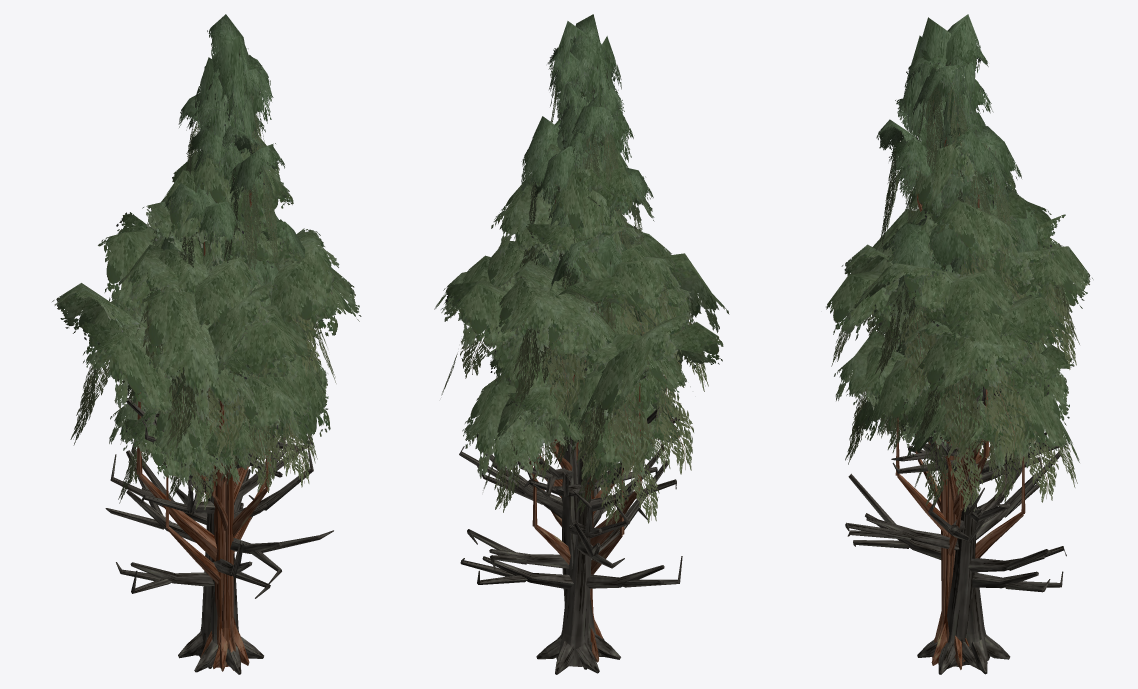
File: vado_arboles.glb
3 renders of one model, left to right at view 1: azimuth 30°, elevation 25°; view 2: azimuth 150°, elevation 25°; view 3: azimuth 270°, elevation 25°, orthographic.
Parts seen in each view (by area): view 1: roble_02__tree_detailed, pino_04__tree_pineTallD_detailed, roble_03__tree_oak_dark, roble_01__tree_oak, arbol_muerto_02__stump_old, arbol_muerto_01__stump_oldTall, pino_02__tree_pineTallB_detailed; view 2: roble_02__tree_detailed, pino_04__tree_pineTallD_detailed, roble_01__tree_oak, arbol_muerto_01__stump_oldTall, roble_03__tree_oak_dark, arbol_muerto_02__stump_old, pino_02__tree_pineTallB_detailed; view 3: roble_02__tree_detailed, pino_04__tree_pineTallD_detailed, roble_01__tree_oak, roble_03__tree_oak_dark, arbol_muerto_02__stump_old, arbol_muerto_01__stump_oldTall, pino_02__tree_pineTallB_detailed.
Part boxes in pixels (x1=…): roble_02__tree_detailed: x1=52, y1=131, x2=361, y2=671; pino_04__tree_pineTallD_detailed: x1=161, y1=14, x2=305, y2=668; roble_03__tree_oak_dark: x1=109, y1=352, x2=328, y2=670; roble_01__tree_oak: x1=120, y1=236, x2=330, y2=537; arbol_muerto_02__stump_old: x1=110, y1=413, x2=333, y2=674; arbol_muerto_01__stump_oldTall: x1=105, y1=398, x2=313, y2=668; pino_02__tree_pineTallB_detailed: x1=194, y1=119, x2=263, y2=283; roble_02__tree_detailed: x1=434, y1=138, x2=729, y2=662; pino_04__tree_pineTallD_detailed: x1=514, y1=14, x2=653, y2=365; roble_01__tree_oak: x1=462, y1=218, x2=666, y2=564; arbol_muerto_01__stump_oldTall: x1=460, y1=406, x2=679, y2=674; roble_03__tree_oak_dark: x1=486, y1=345, x2=685, y2=637; arbol_muerto_02__stump_old: x1=459, y1=350, x2=682, y2=669; pino_02__tree_pineTallB_detailed: x1=536, y1=82, x2=616, y2=316; roble_02__tree_detailed: x1=826, y1=142, x2=1093, y2=669; pino_04__tree_pineTallD_detailed: x1=876, y1=14, x2=1039, y2=659; roble_01__tree_oak: x1=834, y1=253, x2=1079, y2=661; roble_03__tree_oak_dark: x1=866, y1=350, x2=1031, y2=664; arbol_muerto_02__stump_old: x1=845, y1=385, x2=1066, y2=674; arbol_muerto_01__stump_oldTall: x1=848, y1=348, x2=1063, y2=674; pino_02__tree_pineTallB_detailed: x1=912, y1=82, x2=1010, y2=273.
Bounding box in the file's own units: 5.47 × 10.5 × 4.92.
1 material, 1 textured.
